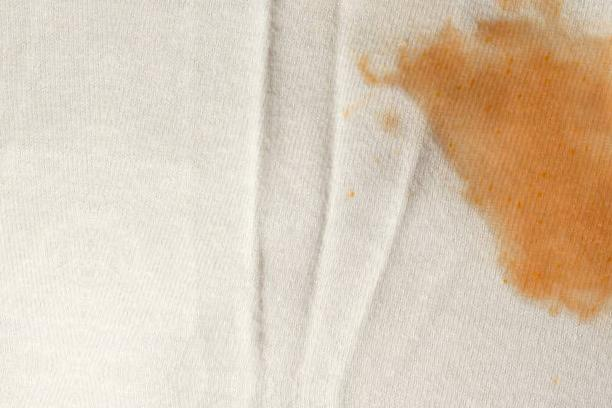stain: (353, 0, 612, 334)
